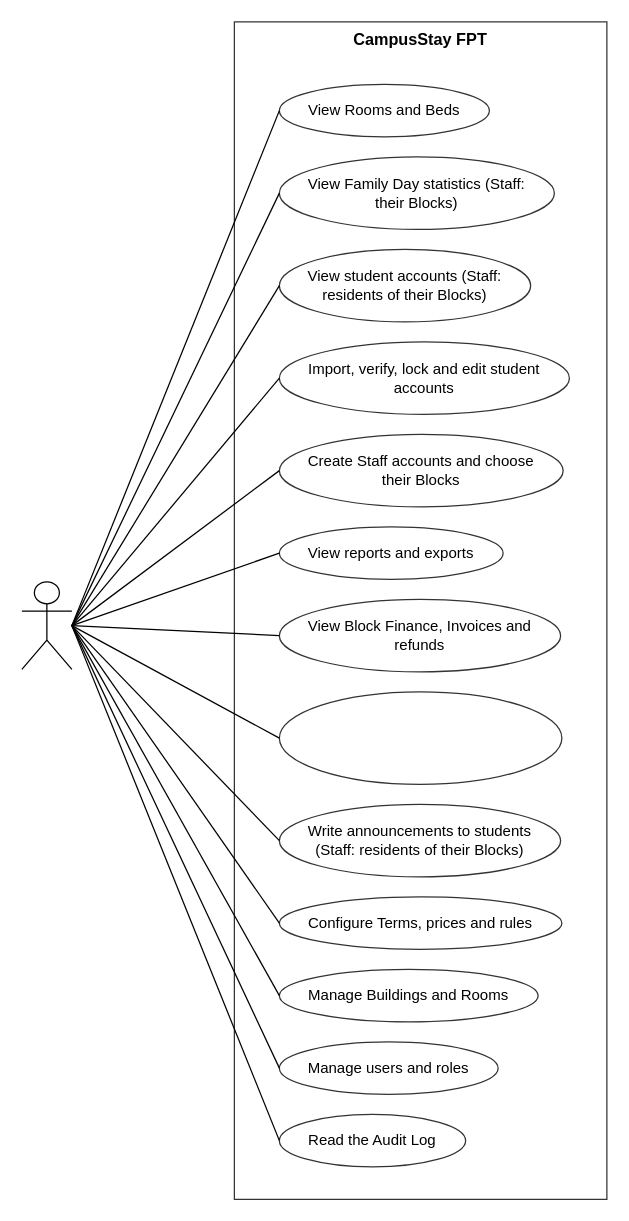
This 629x1221 diagram has some shape labels left out. Each missing label, with the centre of its shape:
"Admin" belongs at point 46,625.
"Read and comment on registration-period requests; Term dashboards" belongs at point 420,737.
